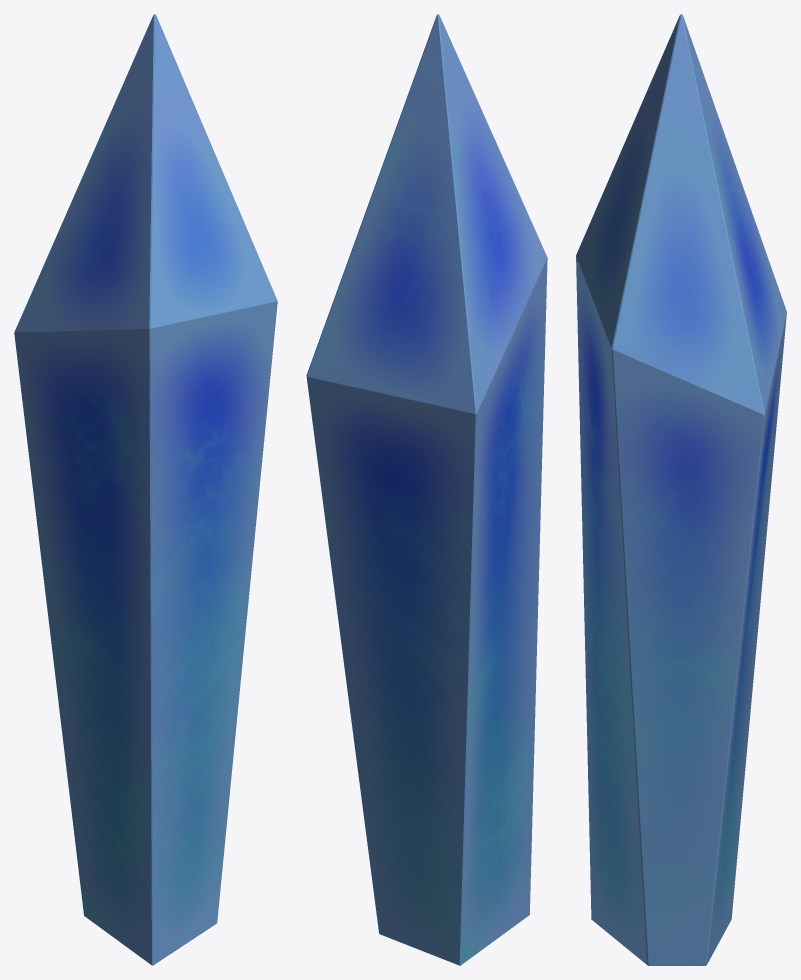
Rendered from IceSpike_Version2_Tall.fbx.
3 renders of one model, left to right at view 1: azimuth 30°, elevation 25°; view 2: azimuth 150°, elevation 25°; view 3: azimuth 270°, elevation 25°, orthographic. The views are drawn at different scales.
Parts seen in each view (by area): view 1: Ice spike Long; view 2: Ice spike Long; view 3: Ice spike Long.
Boxes of the visible parts, x1,y1,x2,y2 form: Ice spike Long: [14, 14, 277, 965]; Ice spike Long: [306, 14, 547, 965]; Ice spike Long: [576, 14, 786, 965].
Size of the model in its own units: 42.16 by 205 by 42.13.
